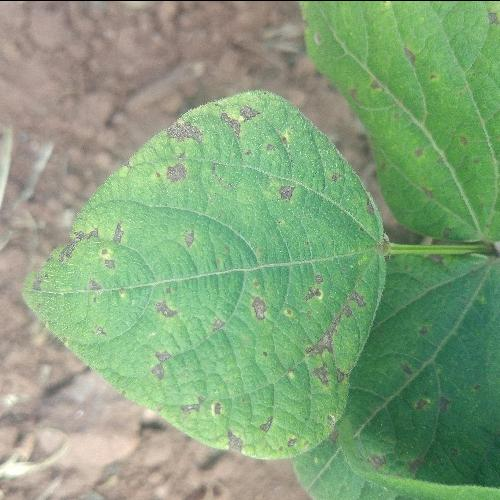hawar: (78, 241, 370, 341), (141, 344, 351, 426), (162, 110, 308, 214)
